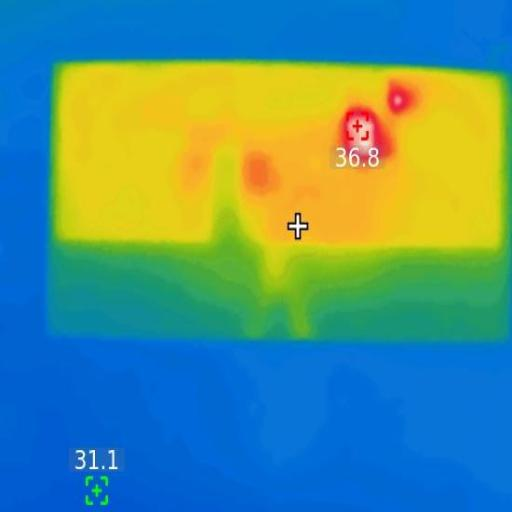hotspot: (343, 113, 388, 165), (389, 92, 414, 113)
